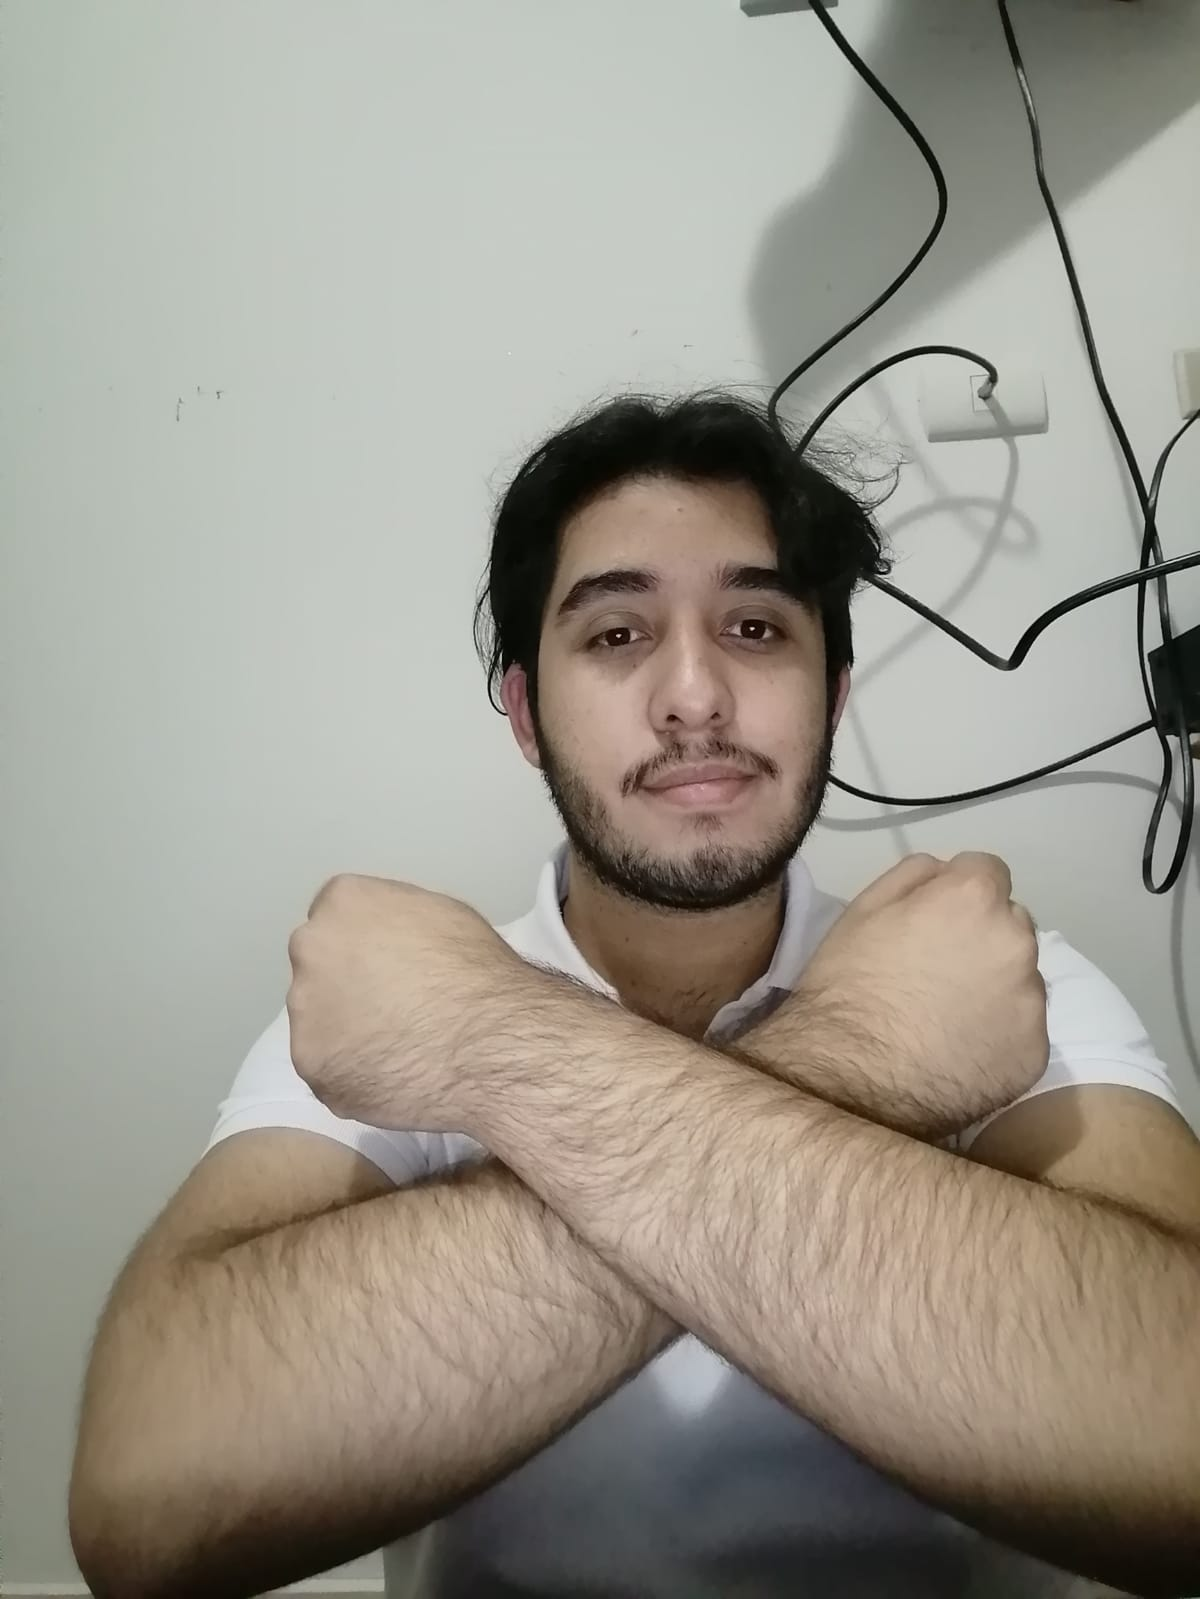Love: (274, 853, 1076, 1166)
